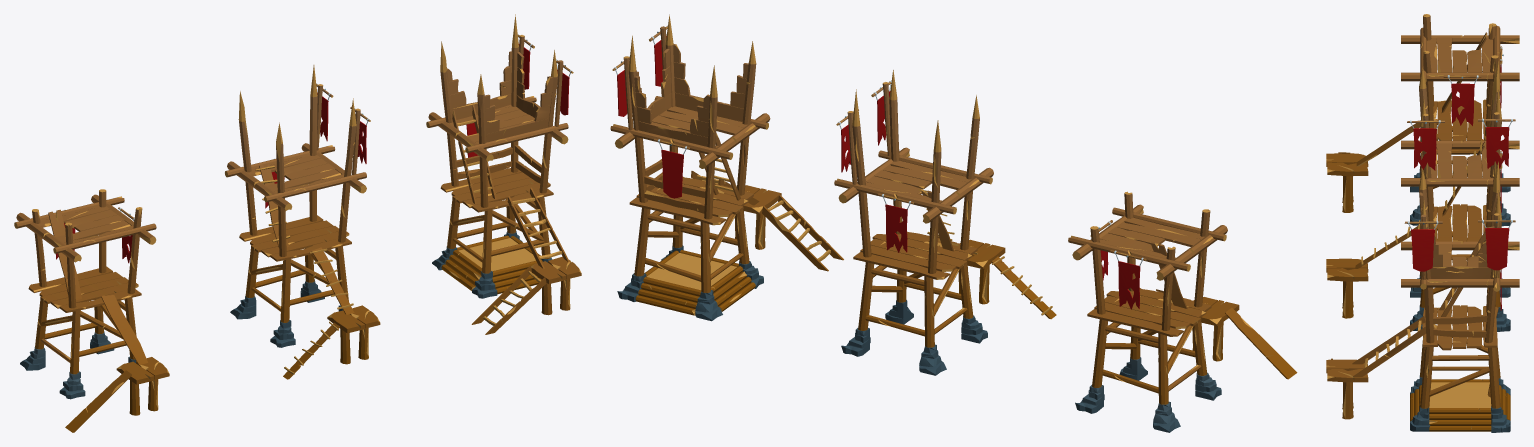
The model's file is wooden_watchtower_lvl_1-3.glb.
3 renders of one model, left to right at view 1: azimuth 30°, elevation 25°; view 2: azimuth 150°, elevation 25°; view 3: azimuth 270°, elevation 25°, orthographic. The views are drawn at different scales.
Visible parts, largest first — view 1: Cylinder.013, Cylinder.069, Cylinder.106; view 2: Cylinder.013, Cylinder.069, Cylinder.106; view 3: Cylinder.013, Cylinder.069, Cylinder.106.
Part boxes in pixels (x1,y1,x2,y2): Cylinder.013: (426, 14, 581, 334); Cylinder.069: (225, 65, 380, 379); Cylinder.106: (14, 189, 169, 432); Cylinder.013: (610, 14, 843, 321); Cylinder.069: (834, 70, 1056, 375); Cylinder.106: (1068, 191, 1297, 432); Cylinder.013: (1326, 161, 1519, 432); Cylinder.069: (1326, 60, 1519, 331); Cylinder.106: (1326, 14, 1519, 226).
Size of the model in its own units: 12.36 by 5.15 by 3.73.
Materials: 1 (1 with a texture image).
